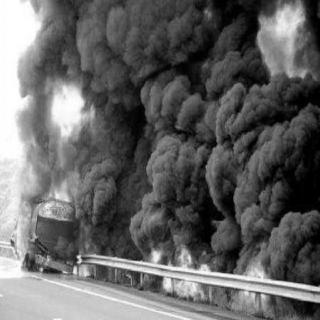Fire: (8, 71, 118, 277), (142, 217, 218, 303), (234, 224, 287, 316)
Smoke: (27, 2, 317, 274)
